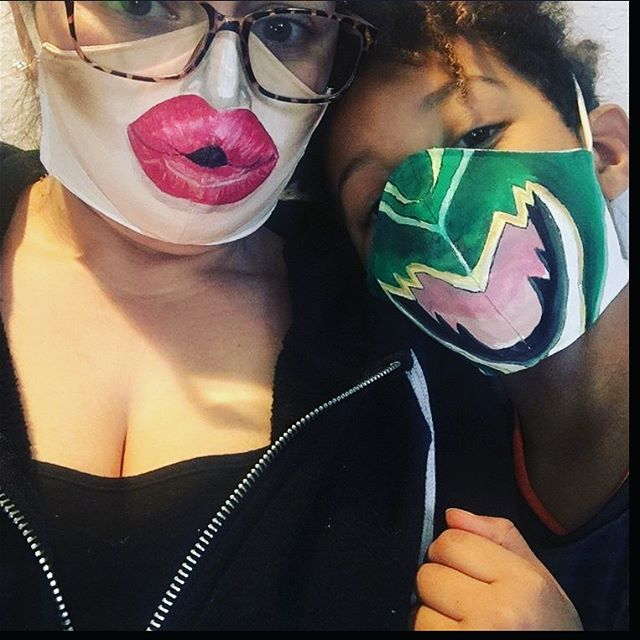homemade: (21, 11, 349, 265), (345, 131, 620, 387)
